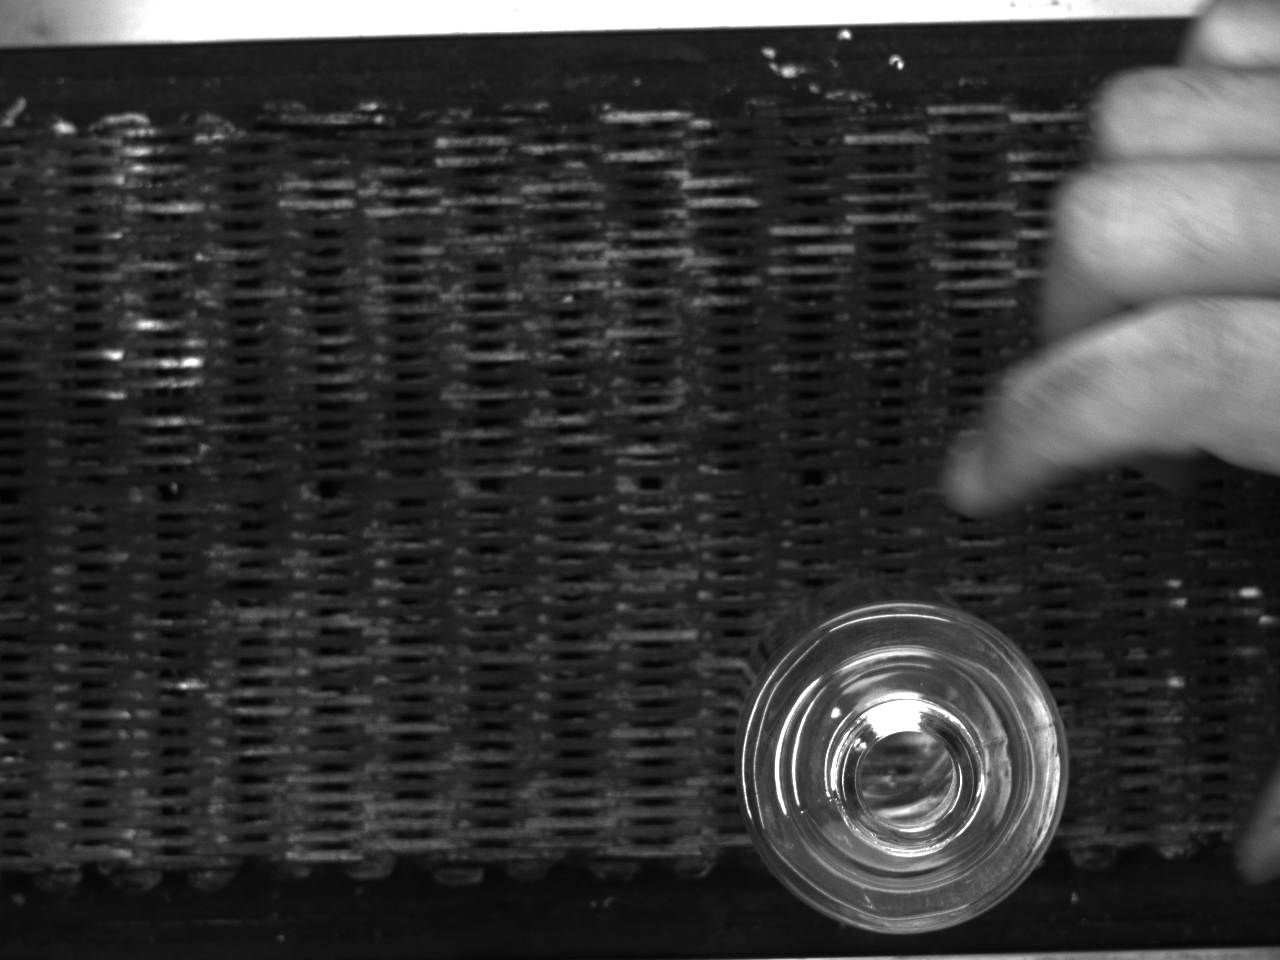bottleneck: (835, 700, 987, 857)
